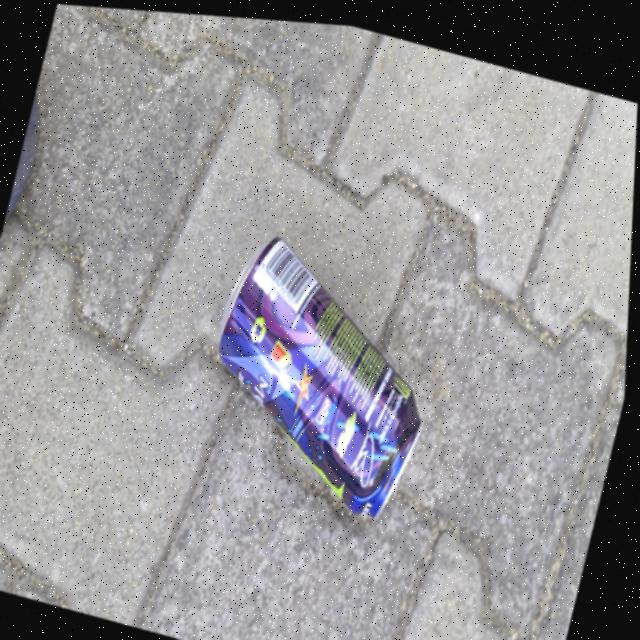Monster LH44: (189, 217, 467, 530)
